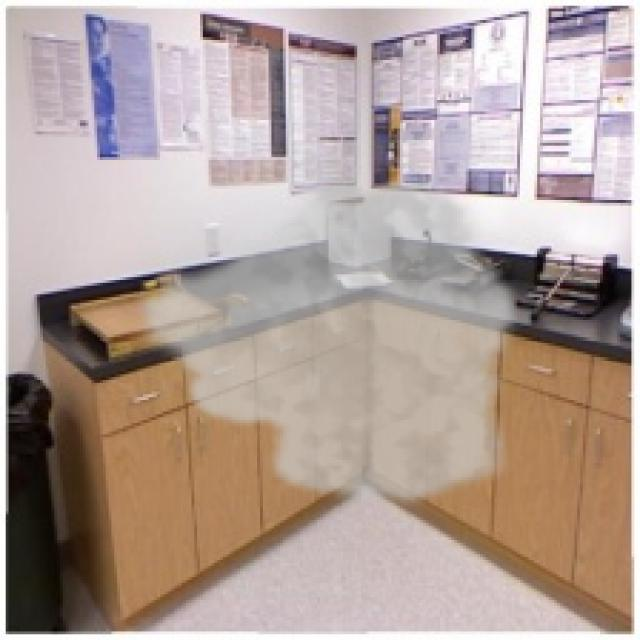smoke: (131, 166, 523, 511)
